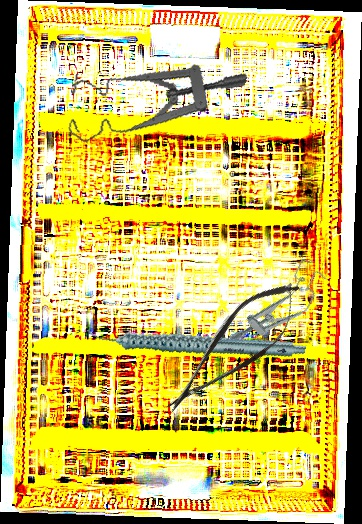Handpiece: (85, 282, 307, 401)
Micro Scissor: (150, 266, 317, 431)
Speculum: (61, 37, 248, 173), (222, 254, 335, 362)
